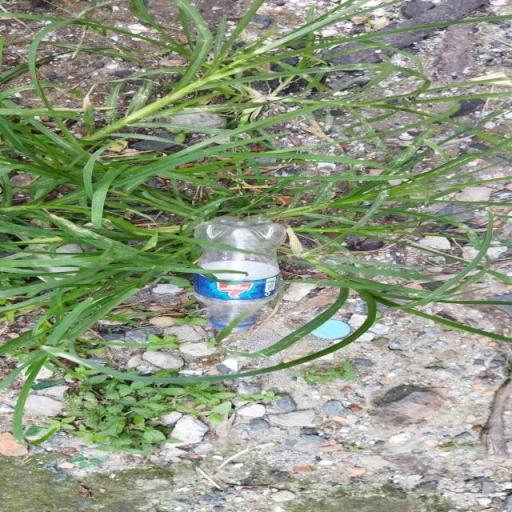plastic: (192, 214, 287, 333)
